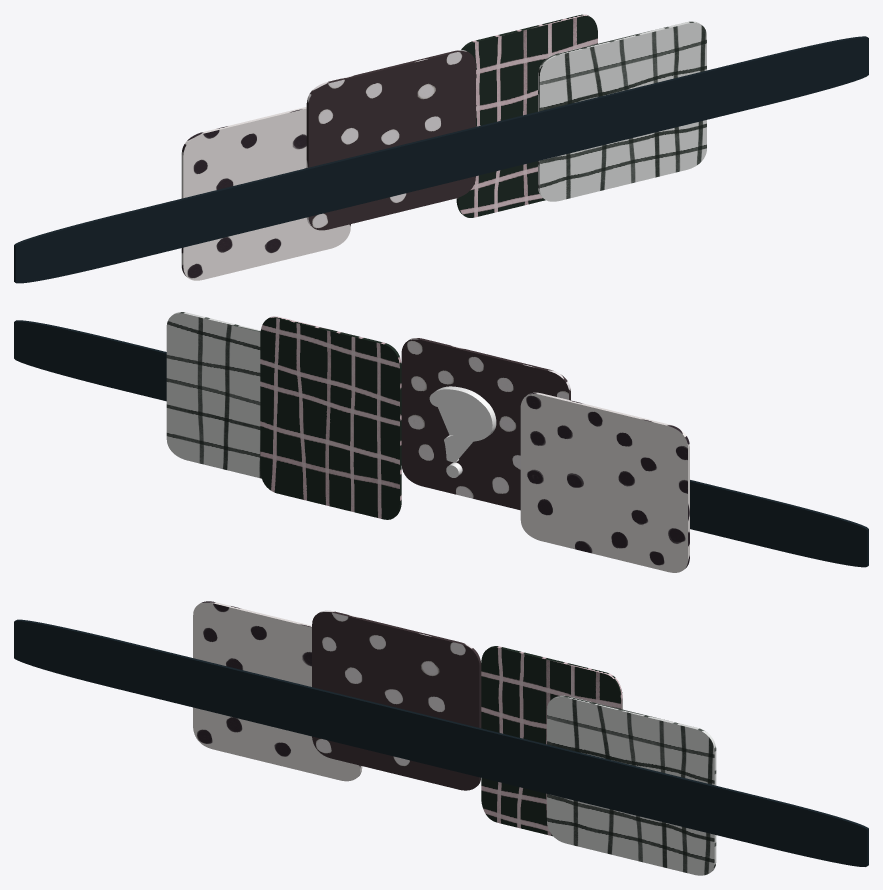
The model's file is 030_Shadows_Frame_3.fbx.
3 renders of one model, top to bottom at view 1: azimuth 30°, elevation 25°; view 2: azimuth 150°, elevation 25°; view 3: azimuth 330°, elevation 25°, orthographic.
Visible parts, largest first — view 1: CHIP2.024, CHIP2.025, CHIP2.021, CHIP2.022, CHIP2.026; view 2: CHIP2.022, CHIP2.026, CHIP2.024, CHIP2.025, CHIP2.021, Curve.004; view 3: CHIP2.024, CHIP2.025, CHIP2.021, CHIP2.022, CHIP2.026.
Boxes of the visible parts, box(x1,y1,x2,y2) form: CHIP2.024: box(14, 36, 868, 283); CHIP2.025: box(306, 50, 475, 230); CHIP2.021: box(538, 21, 706, 201); CHIP2.022: box(181, 107, 350, 280); CHIP2.026: box(456, 14, 597, 217); CHIP2.022: box(520, 392, 689, 572); CHIP2.026: box(260, 316, 401, 519); CHIP2.024: box(14, 320, 868, 567); CHIP2.025: box(401, 338, 570, 510); CHIP2.021: box(166, 312, 261, 478); Curve.004: box(429, 386, 496, 477); CHIP2.024: box(14, 619, 868, 866); CHIP2.025: box(312, 610, 481, 790); CHIP2.021: box(547, 695, 716, 875); CHIP2.022: box(193, 601, 362, 781); CHIP2.026: box(481, 646, 622, 836).
Size of the model in its own units: 529 by 106 by 15.13.
